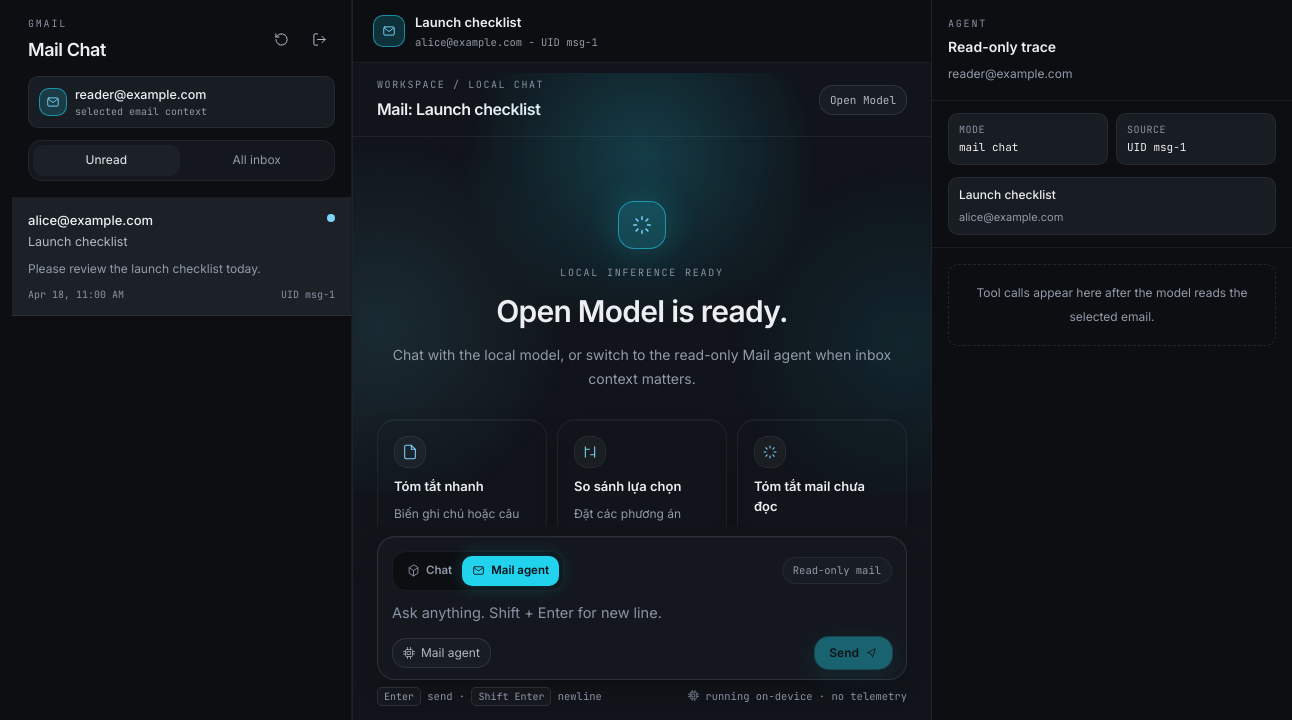
mail dashboard streams mail chat with selected email uid
This screenshot has width=1292, height=720.
Check: the 3rd text "Launch checklist" is shown, box [28,234,128,249]
In the text box named "message": (642, 612) [392,598,892,626], type "summarize this mail"
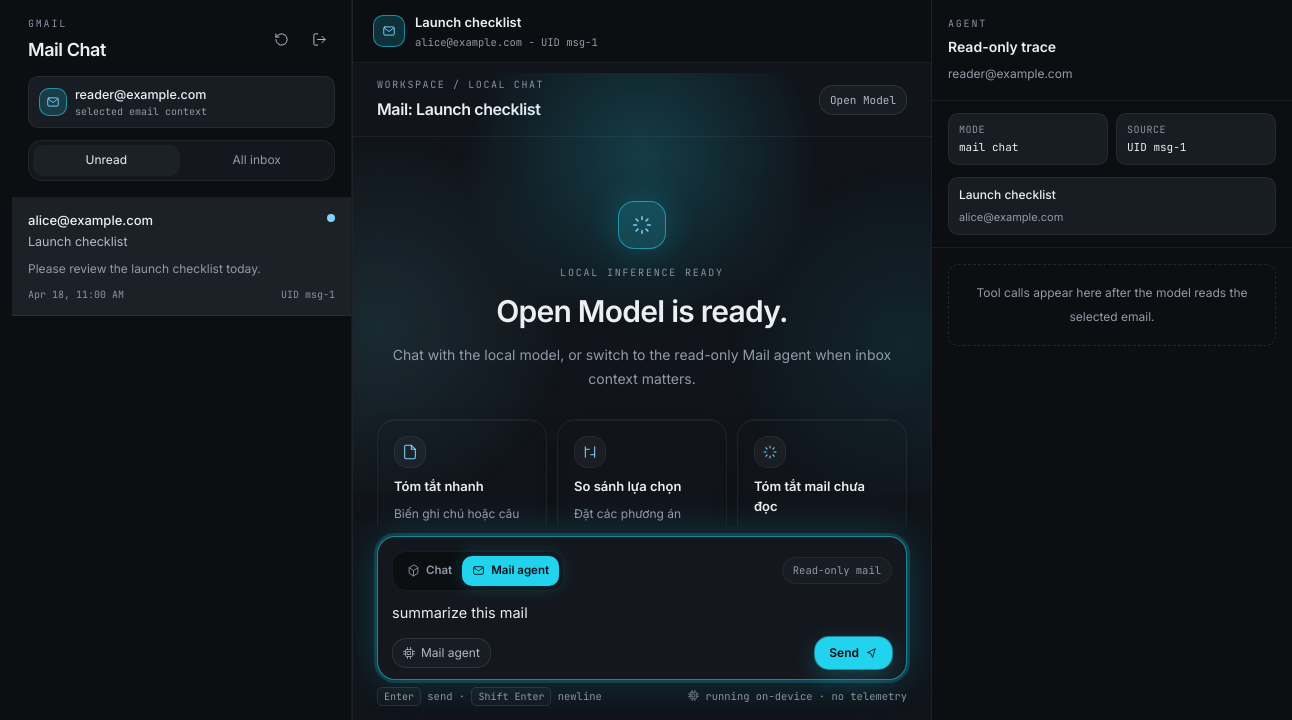
Click the button "Send": (854, 652) [815,636,892,668]
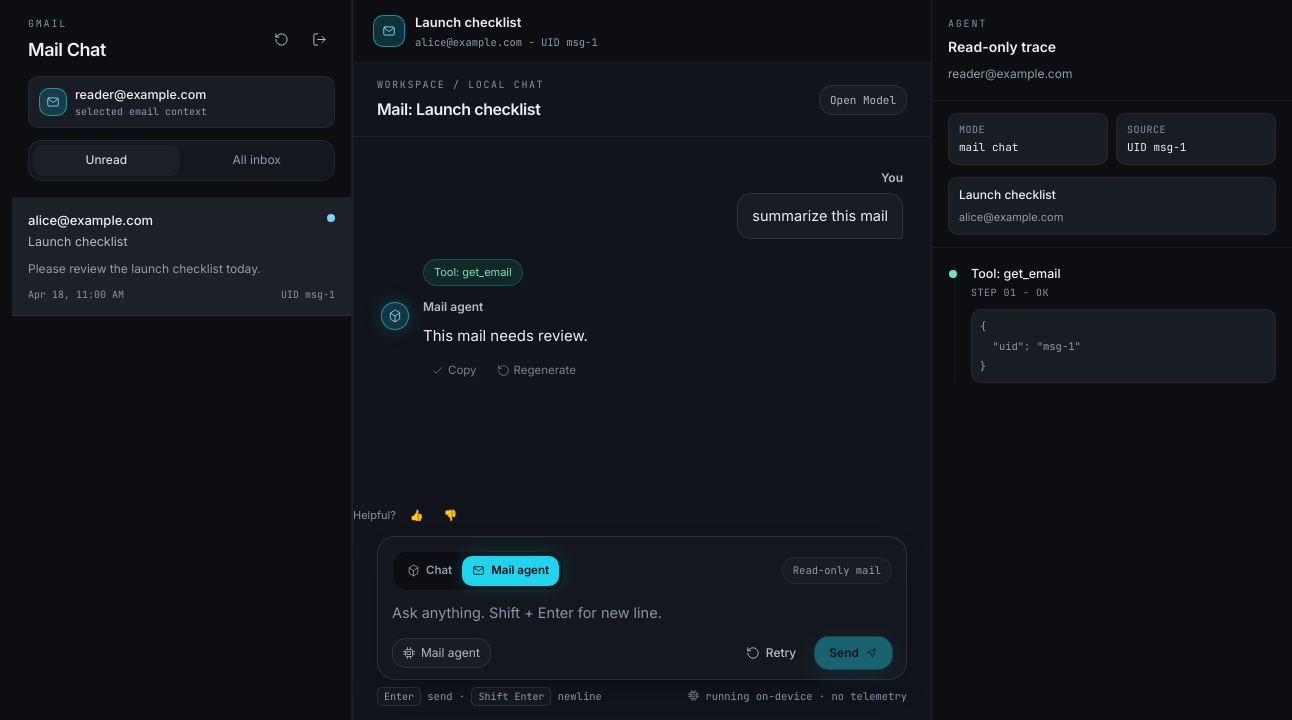
Check: the text "This mail needs review." is shown, box [423,326,588,344]
